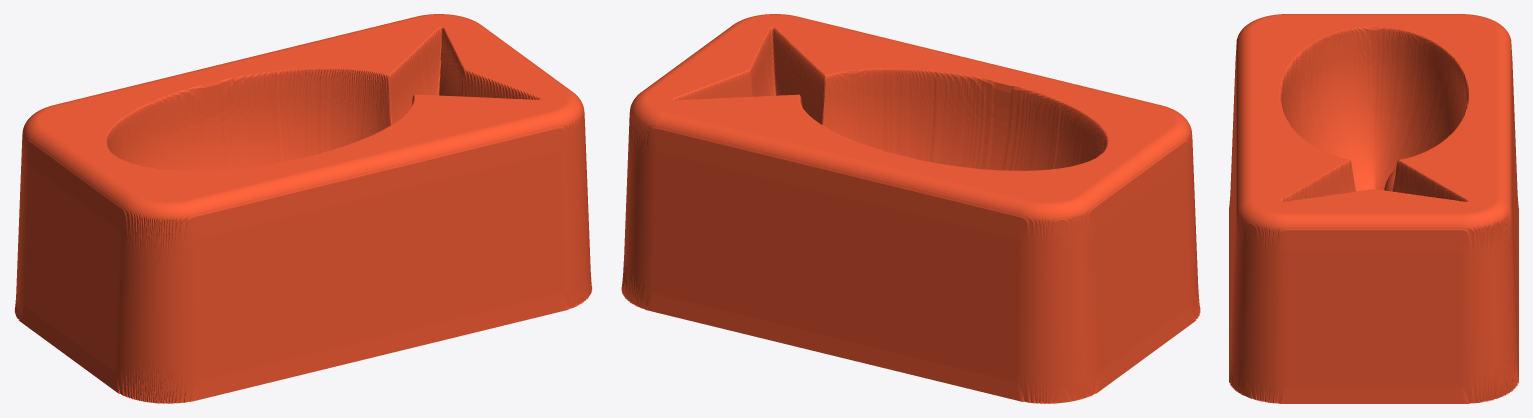
The model's file is mold.glb.
The picture shows the model from 3 angles, left to right: view 1: azimuth 30°, elevation 25°; view 2: azimuth 150°, elevation 25°; view 3: azimuth 270°, elevation 25°; orthographic projection. The views are drawn at different scales.
Parts seen in each view (by area): view 1: geometry_0; view 2: geometry_0; view 3: geometry_0.
Boxes of the visible parts, left/top/right/bottom form: geometry_0: left=14, top=14, right=592, bottom=403; geometry_0: left=621, top=14, right=1200, bottom=403; geometry_0: left=1229, top=14, right=1518, bottom=403.
Bounding box in the file's own units: 0.0798 × 0.031 × 0.045.
